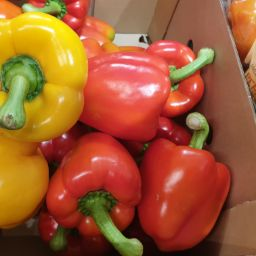Bell pepper: (2, 3, 230, 249), (6, 142, 150, 256), (81, 43, 224, 142), (142, 112, 234, 252), (1, 10, 89, 153)
